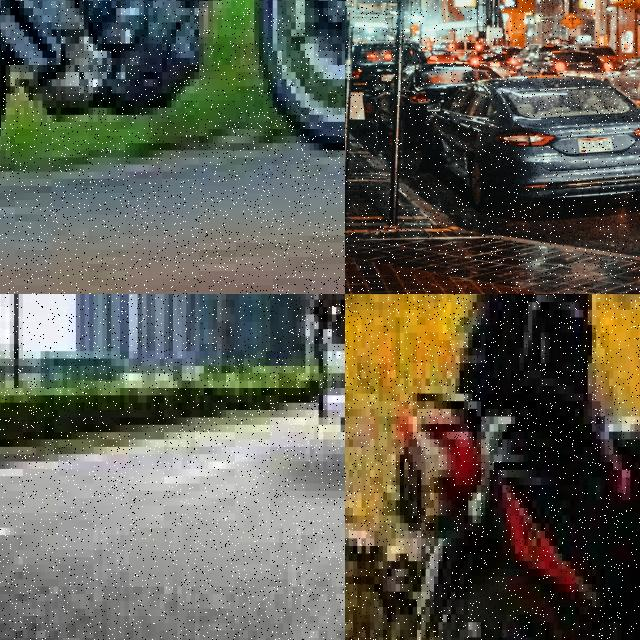bike: (395, 294, 640, 640), (0, 0, 345, 200)
car: (420, 65, 640, 226), (538, 44, 621, 80), (609, 55, 640, 112)
